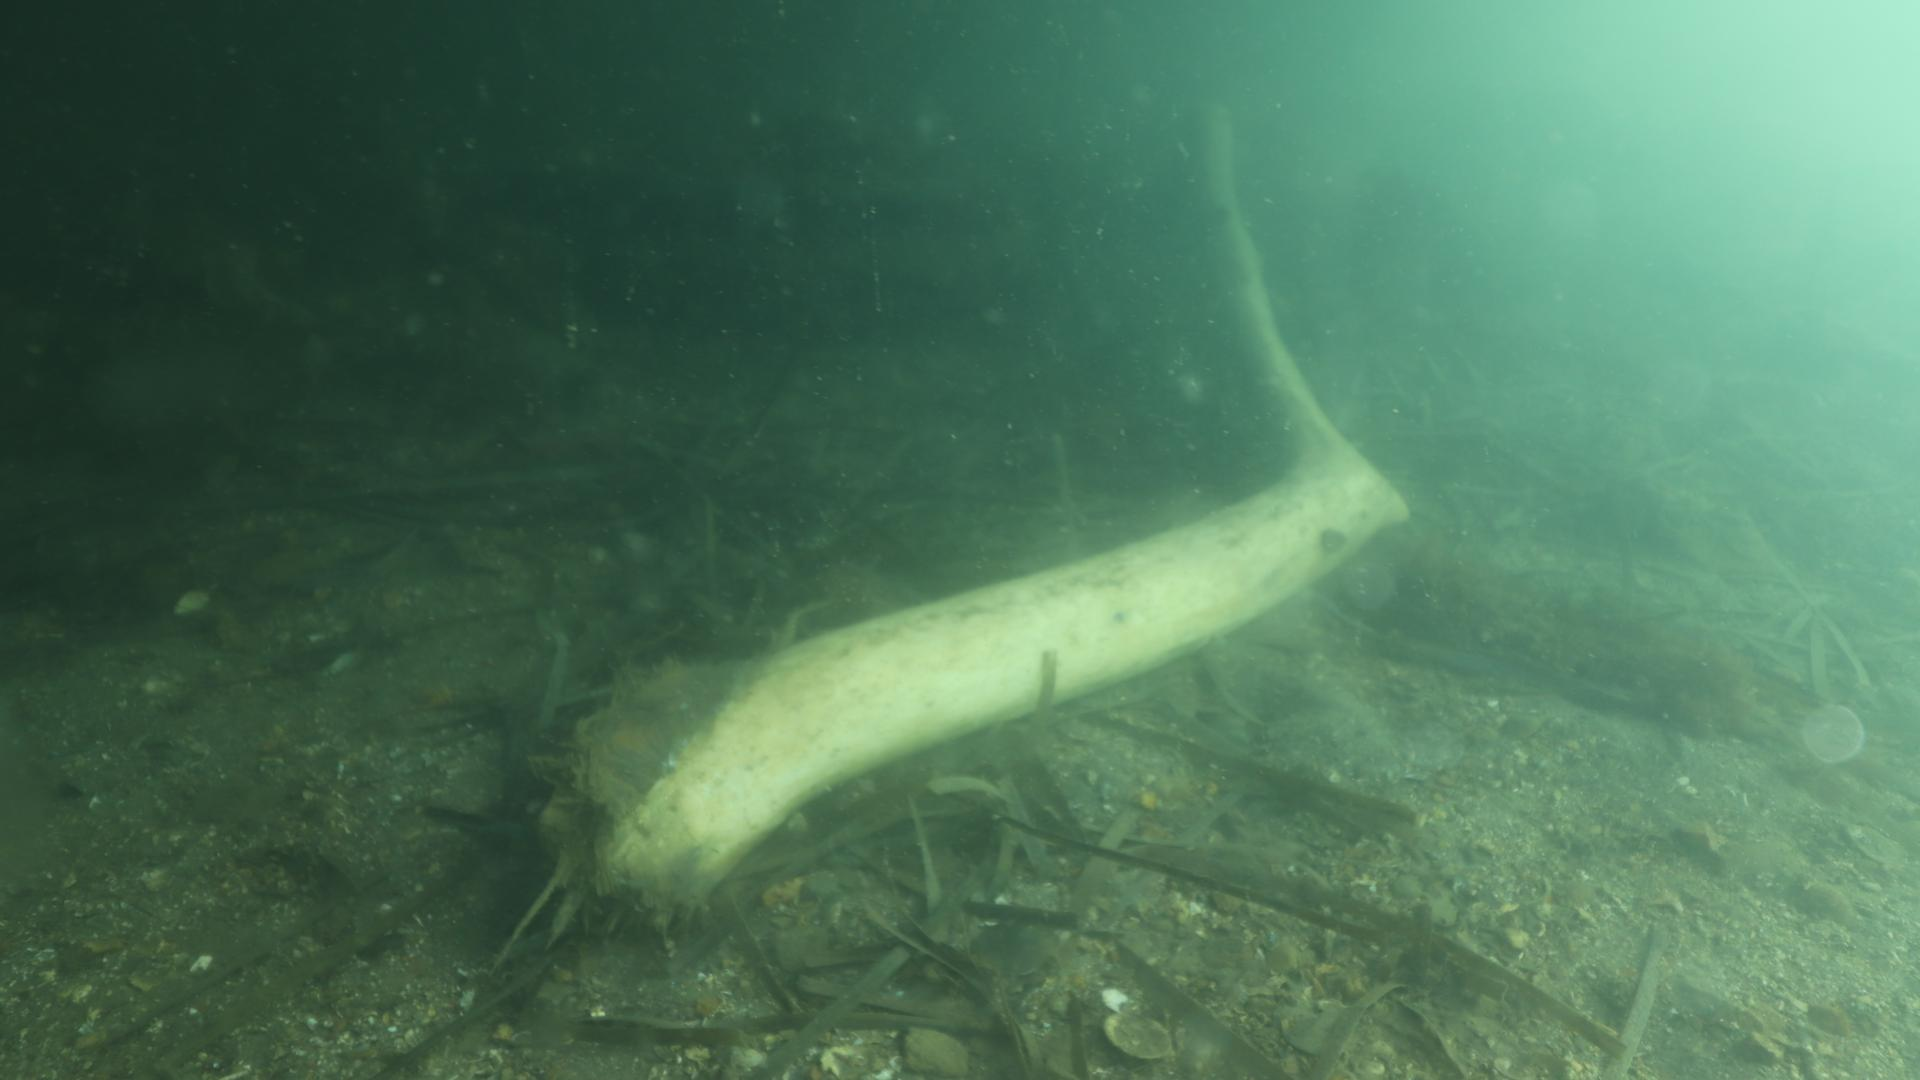wood: (539, 82, 1418, 938)
